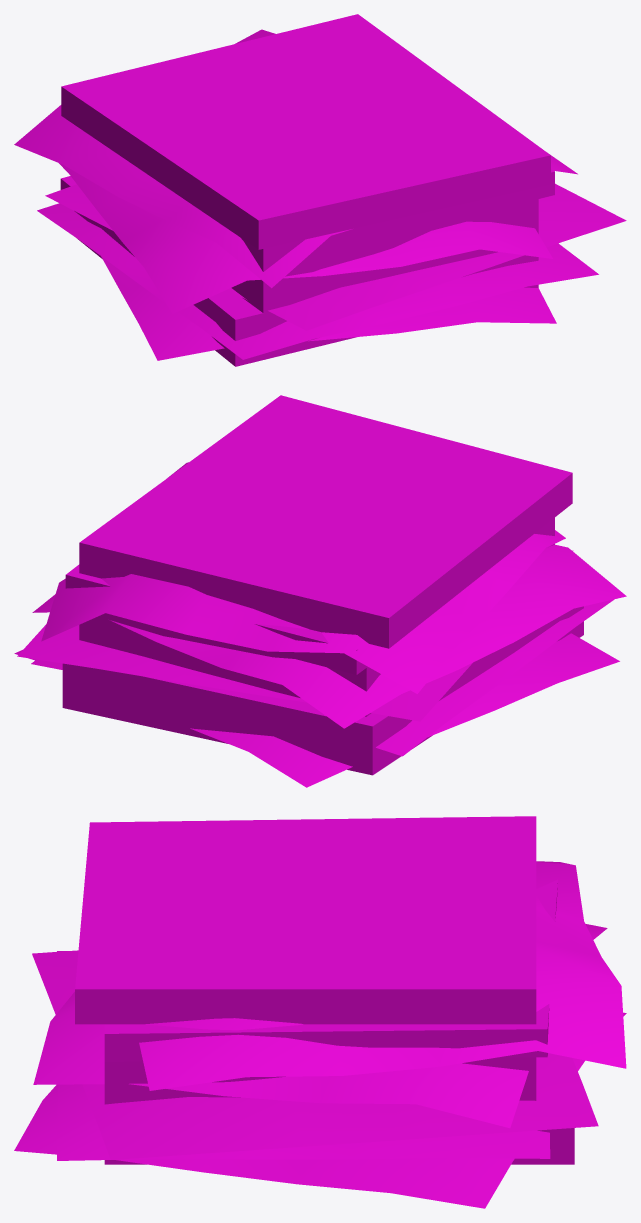
The model's file is paper_stack_1.fbx.
3 views of the same model, one above another, from view 1: azimuth 30°, elevation 25°; view 2: azimuth 150°, elevation 25°; view 3: azimuth 270°, elevation 25° (orthographic). The views are drawn at different scales.
Visible parts, largest first — view 1: Stack_of_Papers_1; view 2: Stack_of_Papers_1; view 3: Stack_of_Papers_1.
Part boxes in pixels (x1,y1,x2,y2): Stack_of_Papers_1: (14,14,626,366); Stack_of_Papers_1: (14,395,626,787); Stack_of_Papers_1: (14,816,626,1208).
Bounding box in the file's own units: 0.731 × 0.2275 × 0.721.
